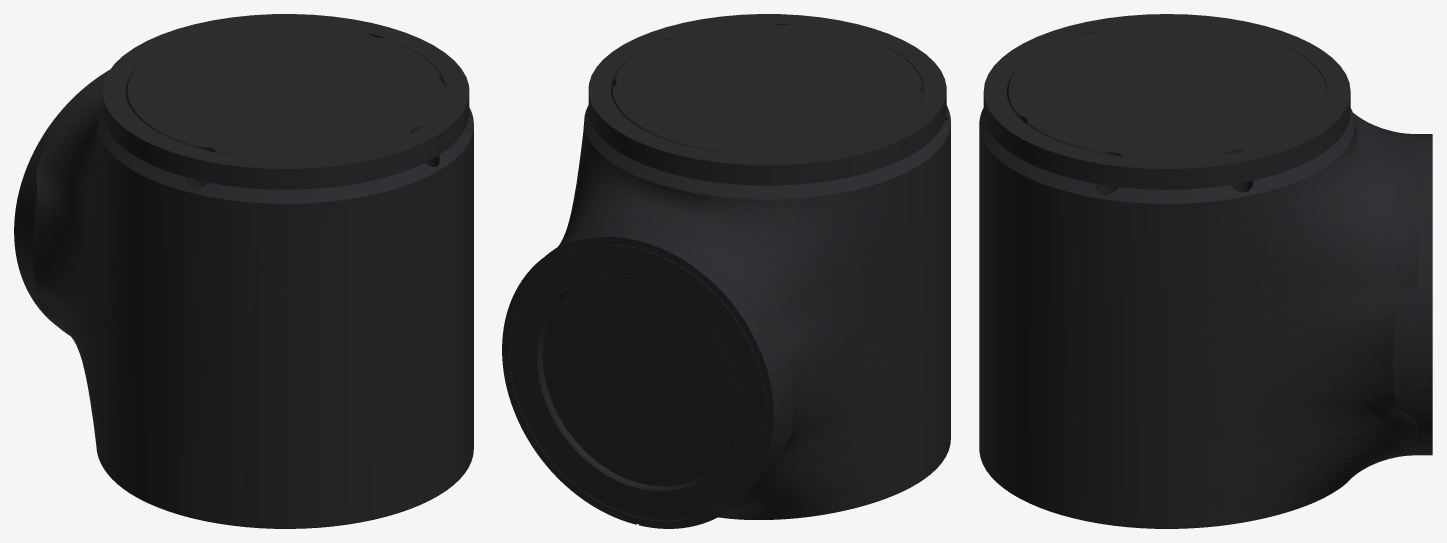
Rendered from AR5_5_08R_W4C4A6_link1_vis.obj.
The picture shows the model from 3 angles, left to right: view 1: azimuth 30°, elevation 25°; view 2: azimuth 150°, elevation 25°; view 3: azimuth 270°, elevation 25°; orthographic projection. The views are drawn at different scales.
Visible parts, largest first — view 1: AR5_5_08R_W4C4A6_link1; view 2: AR5_5_08R_W4C4A6_link1; view 3: AR5_5_08R_W4C4A6_link1.
Boxes of the visible parts, left/top/right/bottom form: AR5_5_08R_W4C4A6_link1: left=14, top=14, right=473, bottom=528; AR5_5_08R_W4C4A6_link1: left=502, top=14, right=950, bottom=528; AR5_5_08R_W4C4A6_link1: left=979, top=14, right=1432, bottom=528.
Bounding box in the file's own units: 0.104 × 0.1173 × 0.1255.
Materials: 1 (1 with a texture image).
